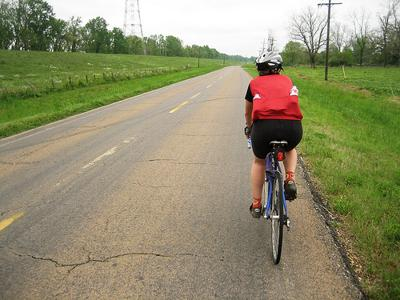person: (247, 52, 303, 220)
